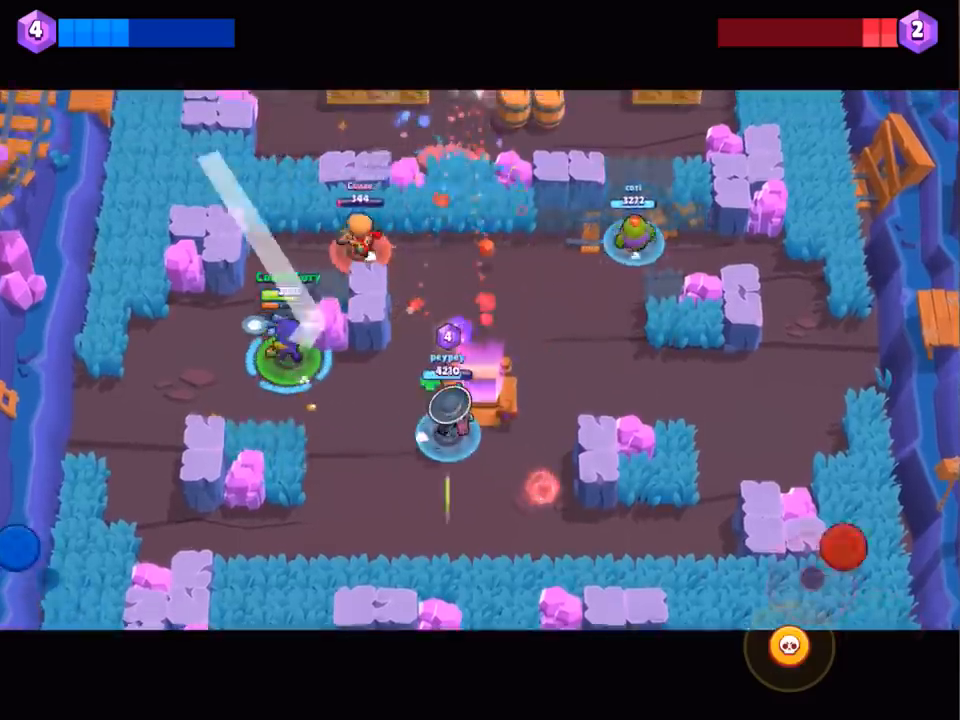move_stick: (1, 519, 43, 568)
red: (329, 187, 391, 281)
